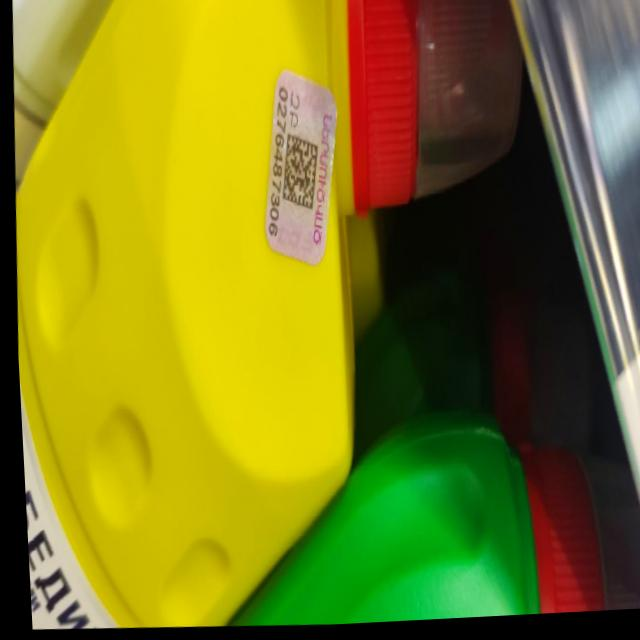datamatrix: (275, 136, 319, 217)
